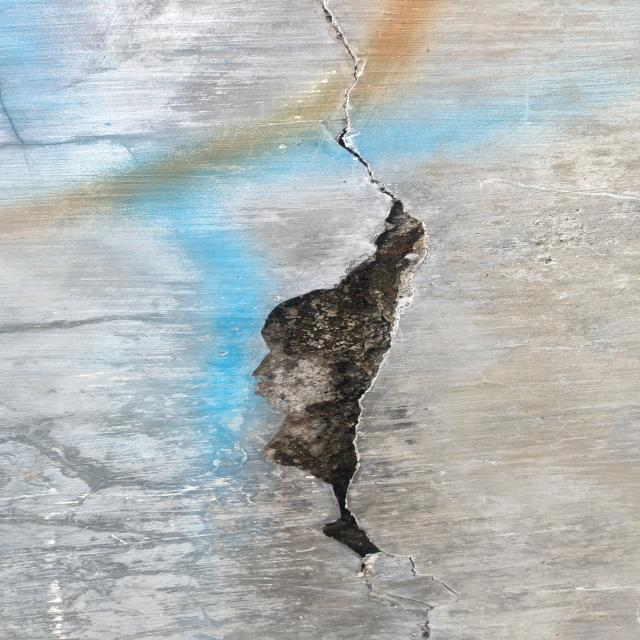Crack: (224, 0, 454, 640)
